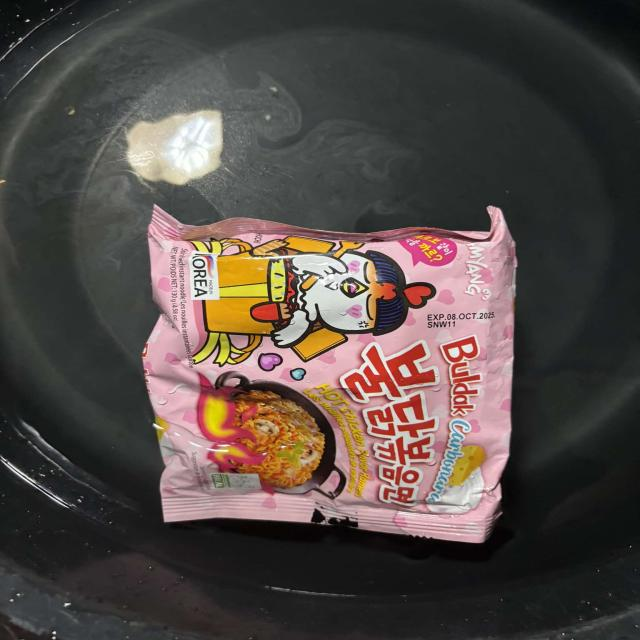Plastic Wrapper: (142, 206, 517, 542)
